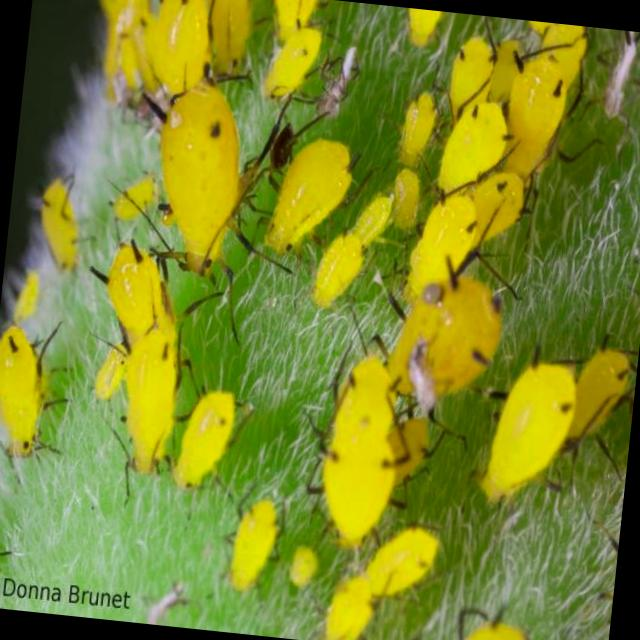aphid: (127, 41, 268, 305), (291, 335, 428, 563), (466, 326, 590, 537), (94, 309, 200, 486), (252, 122, 366, 271), (388, 173, 500, 317), (162, 376, 264, 510), (86, 244, 184, 369), (426, 91, 520, 205), (0, 319, 63, 481), (498, 54, 572, 183), (135, 0, 224, 105), (562, 322, 633, 452), (222, 478, 292, 598), (359, 528, 445, 610), (28, 173, 88, 274), (262, 13, 322, 109), (319, 571, 378, 640), (398, 81, 440, 158), (388, 159, 429, 231)
